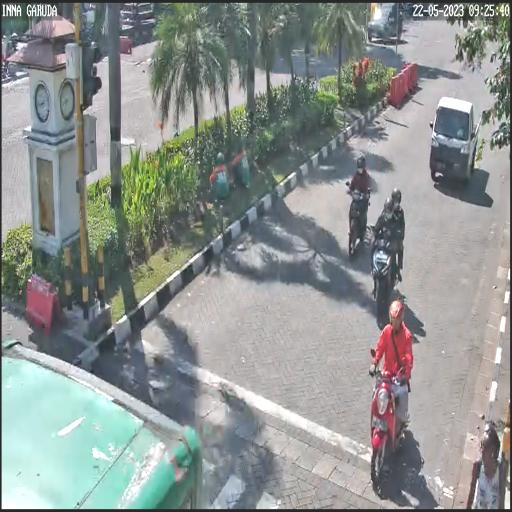mobil: (426, 90, 480, 198)
motor: (366, 341, 415, 492), (364, 215, 408, 321), (341, 173, 372, 261)
